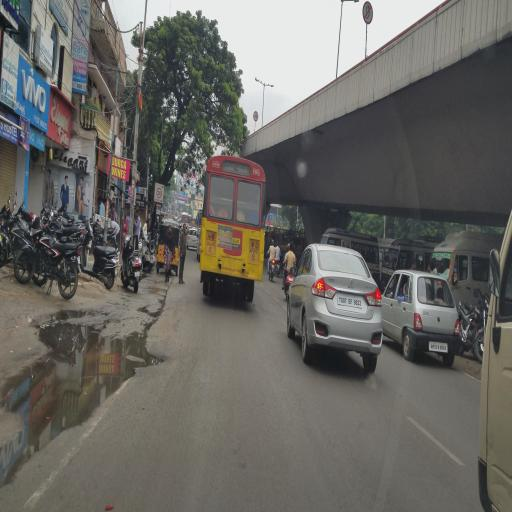street_light_0: (335, 0, 359, 20), (250, 71, 266, 95), (262, 76, 278, 94)
